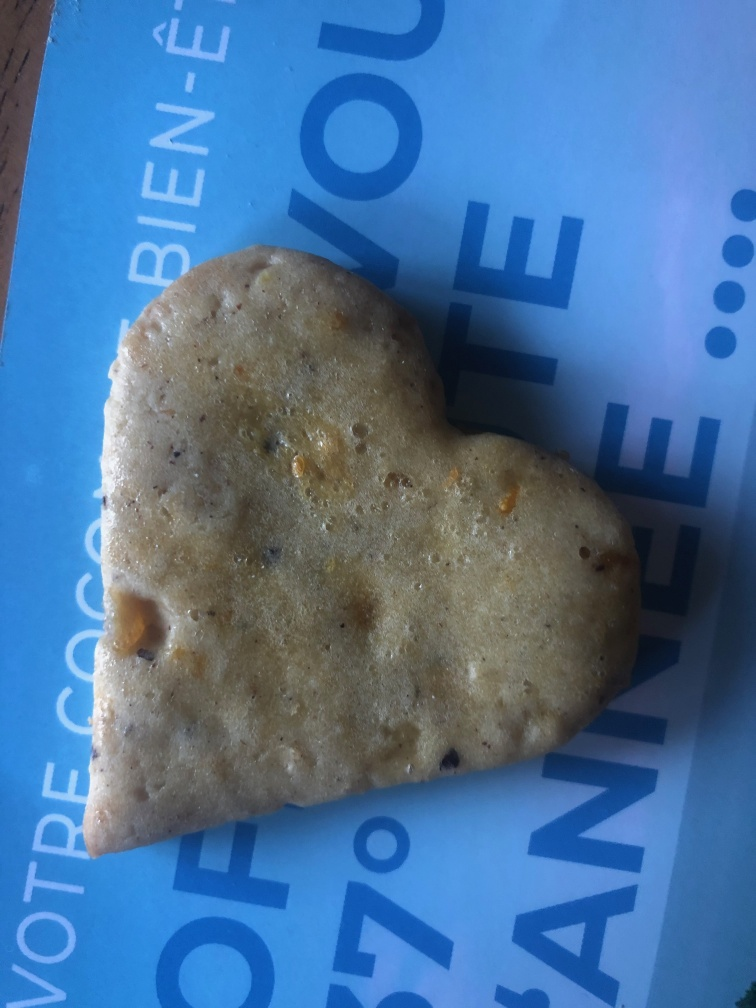heart: (76, 236, 658, 863)
